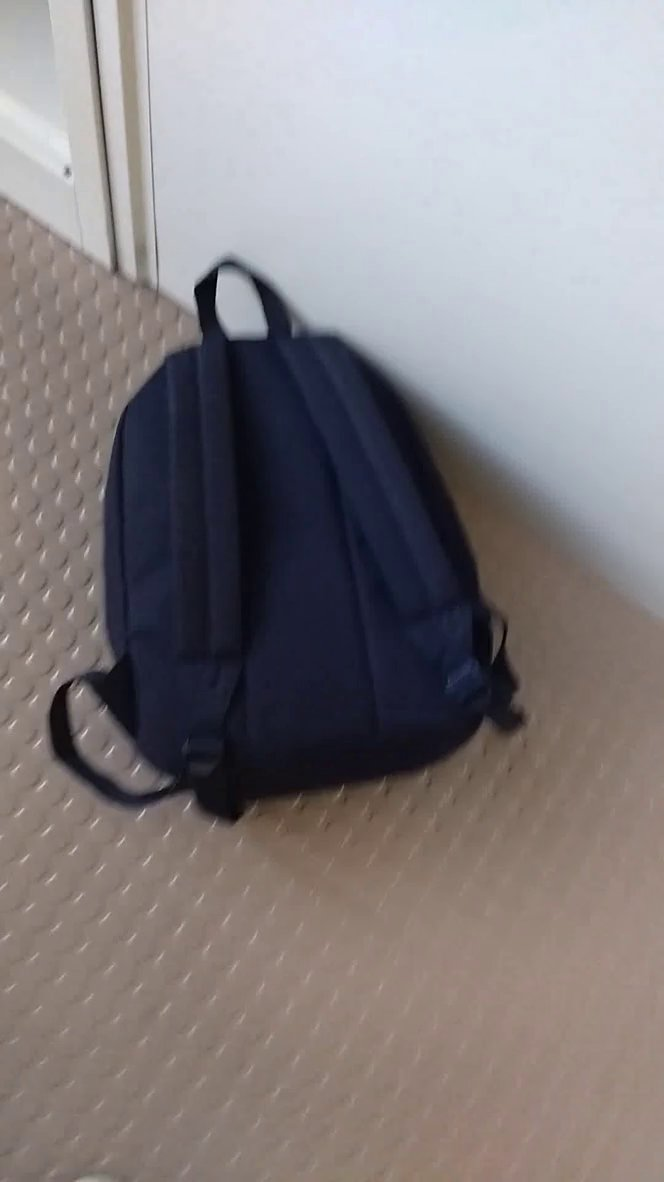bag: (34, 219, 575, 834)
